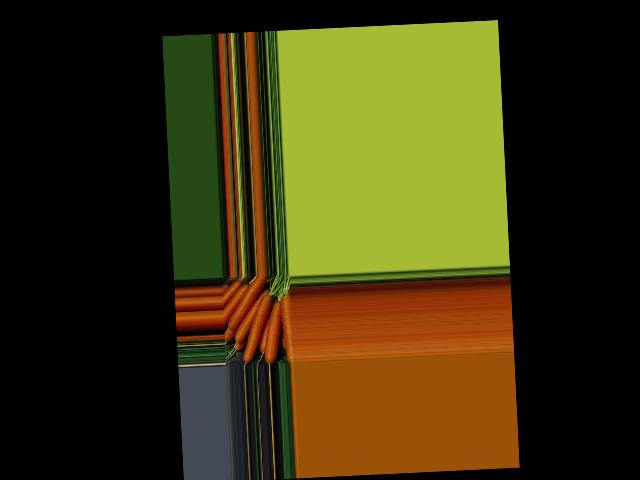carrot: (223, 275, 269, 331)
